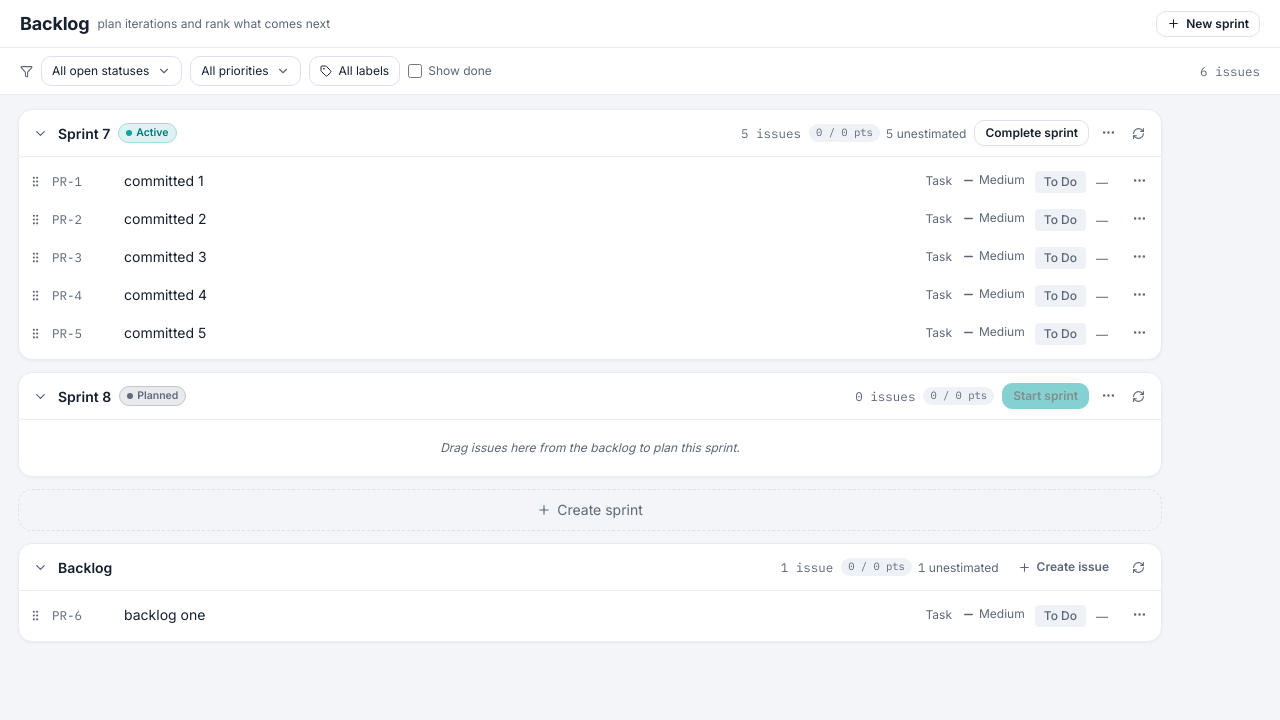
Test: BacklogPage bulk "move every issue to" (0.13.0 review, dc-cloud-guard) › reports how many issues actually moved when a chunk fails, and refreshes
Expected: the text "Sprint 7" is shown, [58,122,110,144]
What coordinates should you click on to do the following:
click the button named "Actions for Sprint 7"
I would click on:
 (1108, 132)
Its box is [1097,121,1120,144].
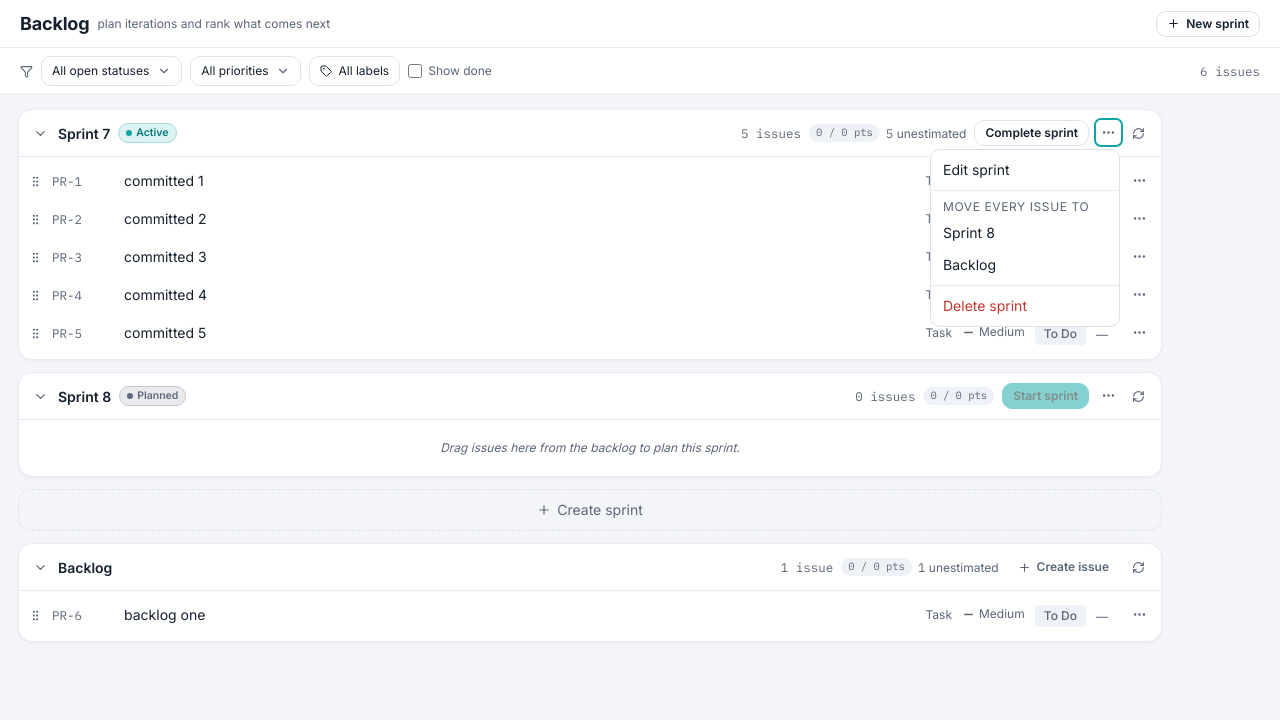
What coordinates should you click on to do the following:
click the menu item "Backlog"
I would click on:
 (1025, 265)
Its box is [931,249,1119,281].
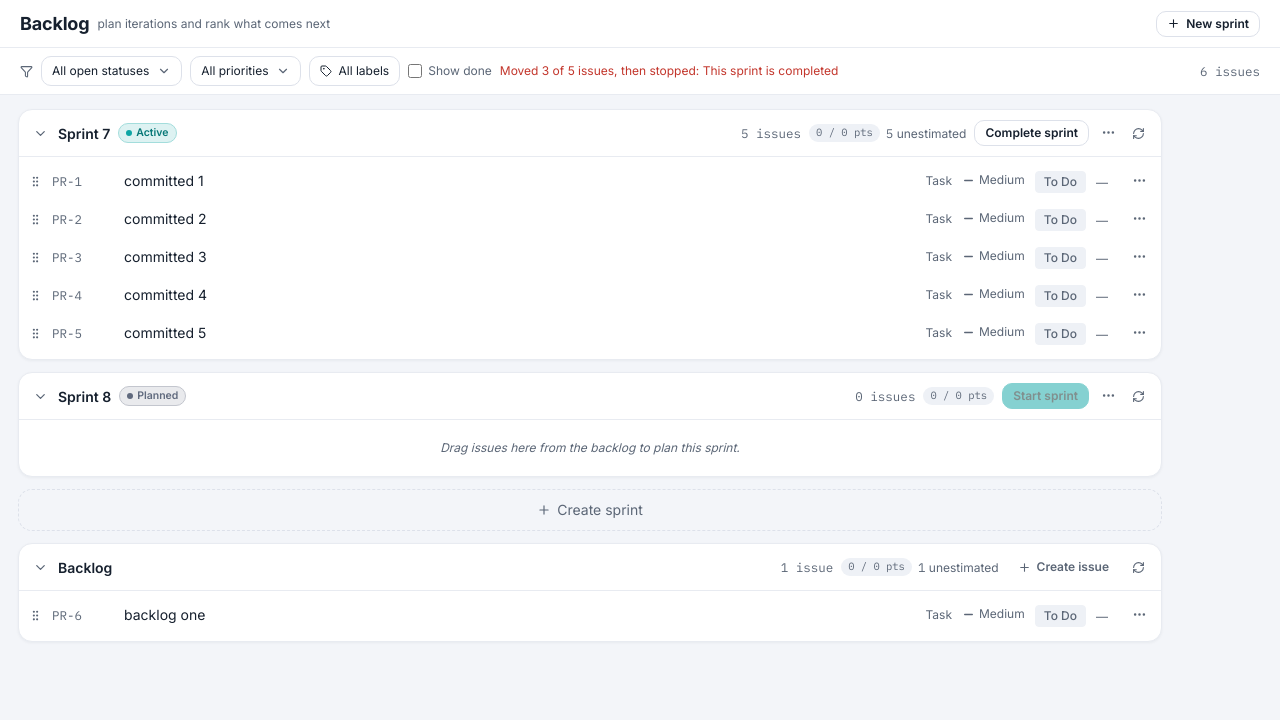
Expected: the text "Moved 3 of 5 issues, then stopped: This sprint is completed" is shown, [500,63,838,79]
